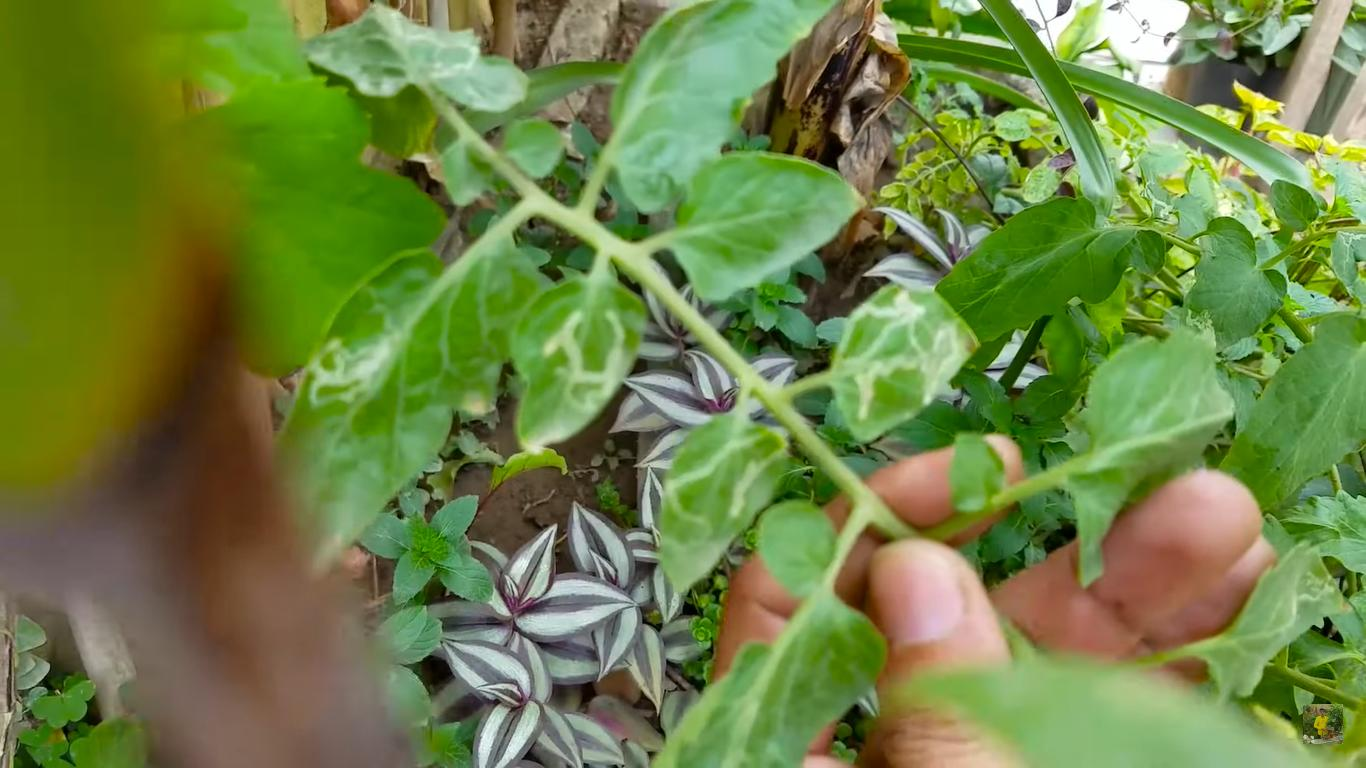Healthy: (608, 0, 840, 215), (939, 195, 1143, 345), (1221, 310, 1366, 512), (676, 151, 868, 300)
Leaf_Miner: (272, 238, 510, 578), (826, 270, 984, 446), (656, 412, 790, 614), (512, 266, 648, 462), (309, 2, 534, 115), (1206, 538, 1354, 703)
